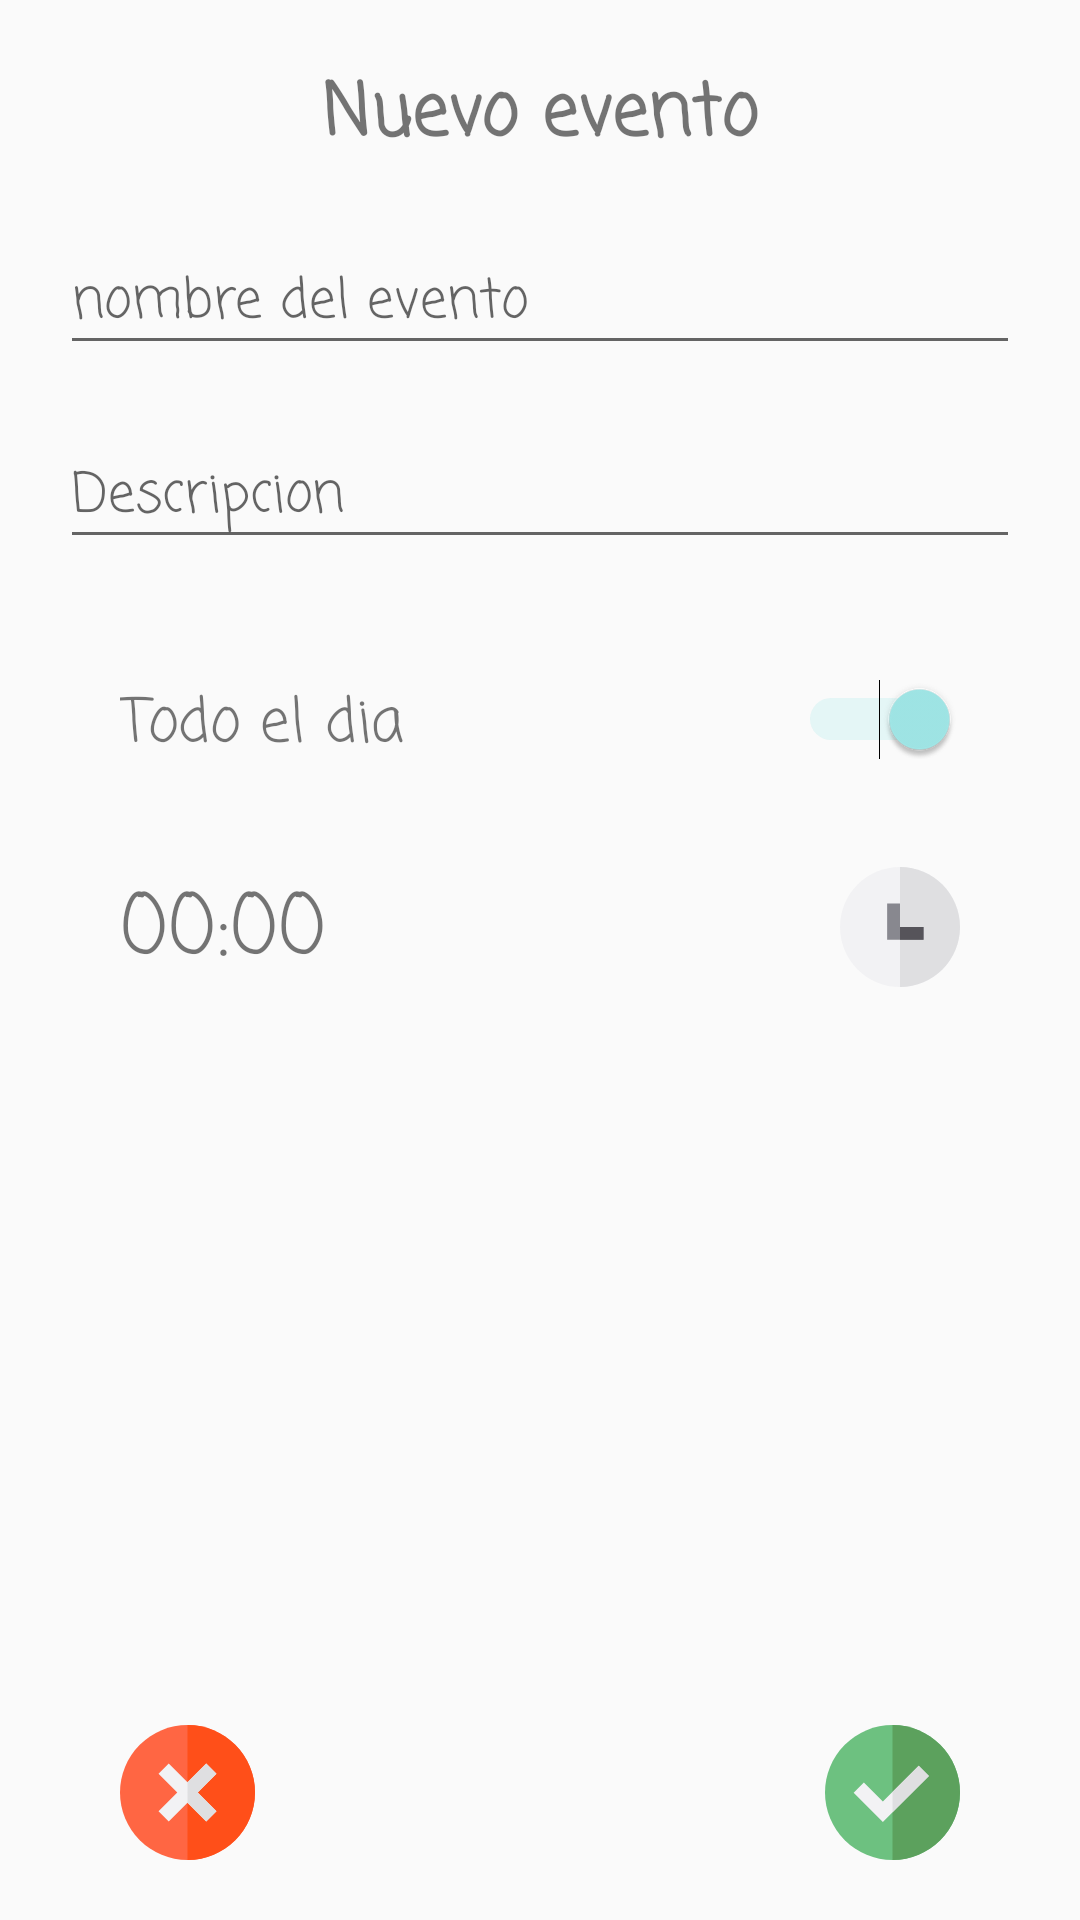

Locate icon controls on the screen. Image size 1080 x 1920, boxes as {"left": x1, "top": y1, "right": x2, "bottom": y2}.
cerrar: {"left": 120, "top": 1725, "right": 255, "bottom": 1860}
confirmar: {"left": 825, "top": 1725, "right": 960, "bottom": 1860}
